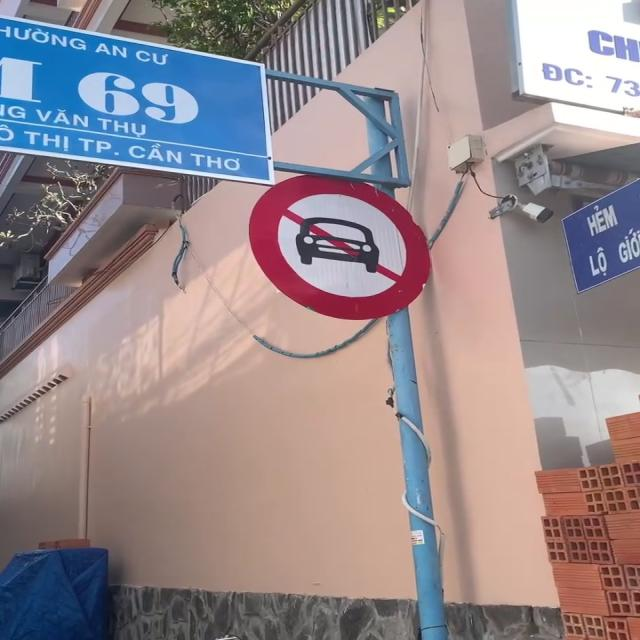Cam_O_To: (247, 170, 433, 319)
